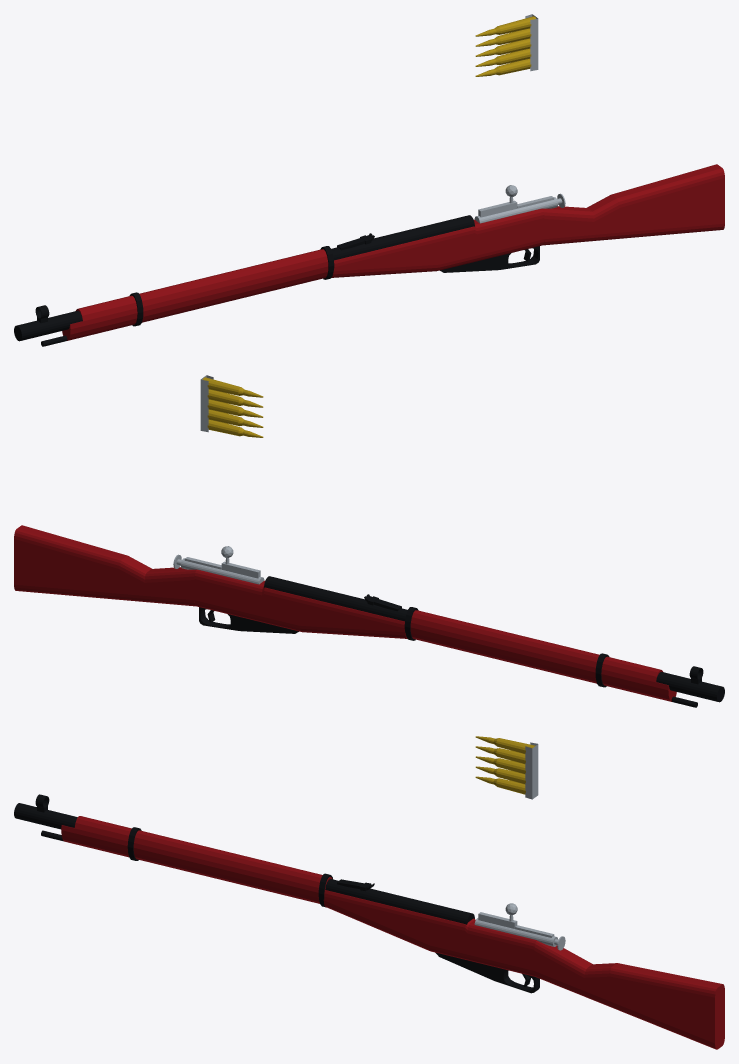
Rendered from mosin-nagant0036.obj.
3 renders of one model, top to bottom at view 1: azimuth 30°, elevation 25°; view 2: azimuth 150°, elevation 25°; view 3: azimuth 330°, elevation 25°, orthographic.
Parts seen in each view (by area): view 1: stock, barrel, triggerGuard, bolt; view 2: stock, barrel, triggerGuard, bolt; view 3: stock, barrel, triggerGuard, clip, bolt.
Boxes of the visible parts, x1,y1,x2,y2 form: stock: [62, 164, 724, 340]; barrel: [14, 215, 474, 341]; triggerGuard: [440, 246, 539, 272]; bolt: [474, 197, 558, 223]; stock: [14, 525, 676, 701]; barrel: [264, 576, 724, 702]; triggerGuard: [199, 607, 298, 633]; bolt: [180, 558, 264, 584]; stock: [61, 816, 724, 1049]; barrel: [14, 803, 474, 924]; triggerGuard: [435, 952, 539, 993]; clip: [525, 742, 538, 799]; bolt: [474, 918, 558, 946].
Bounding box in the file's own units: 16.32 × 5.7 × 0.4228.
